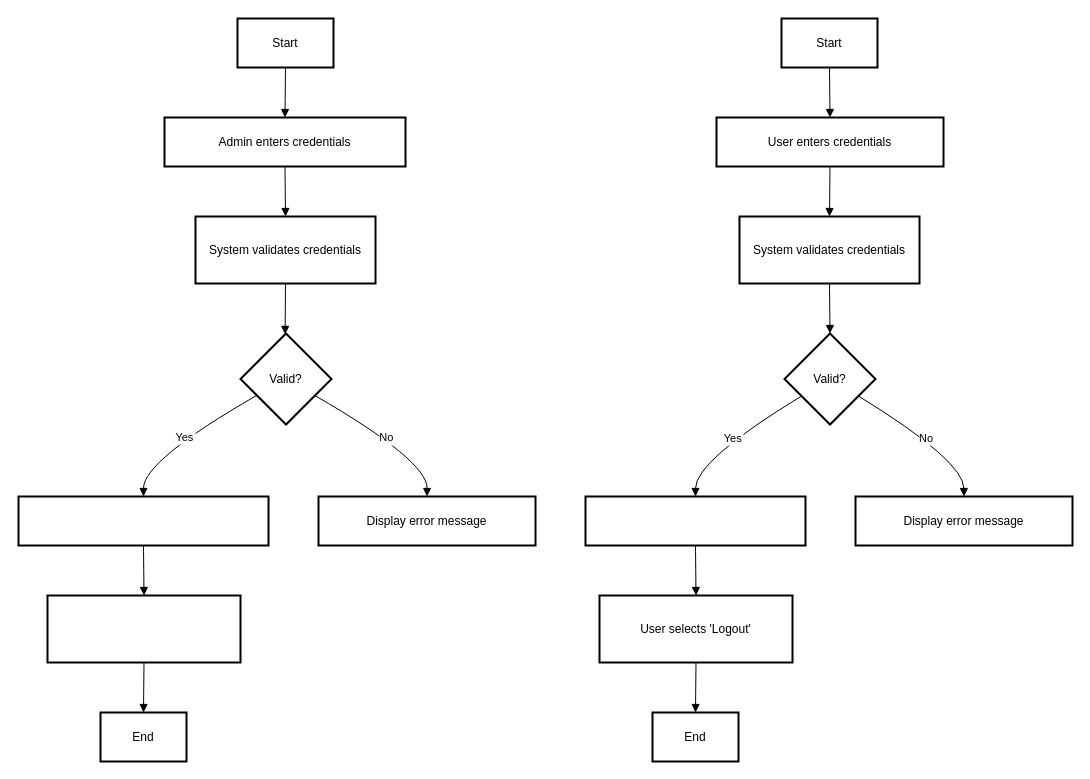
Some shapes in this 1090 by 779 pixel diagram are drawn without their labels. Here are the shapes that lost their labels. From the top down, the box of each, then its label:
(17, 495, 269, 546): Admin accesses dashboard
(584, 495, 806, 546): User accesses account
(46, 594, 241, 663): Admin selects 'Logout'
